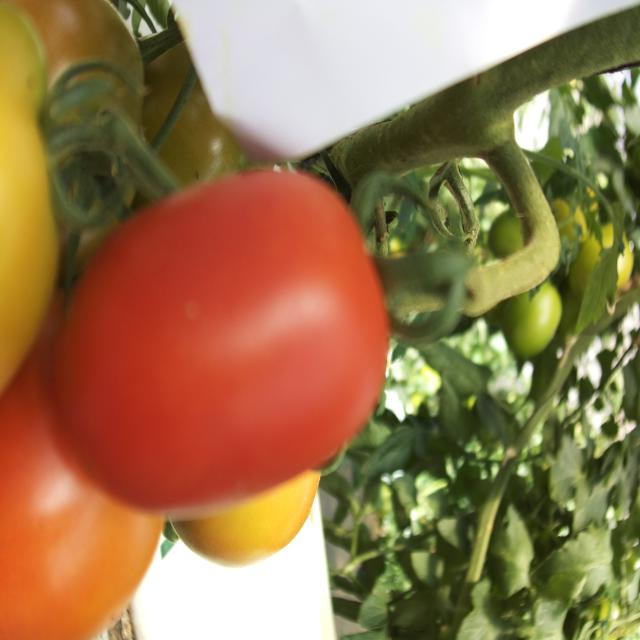kirmizi: (53, 160, 390, 520)
